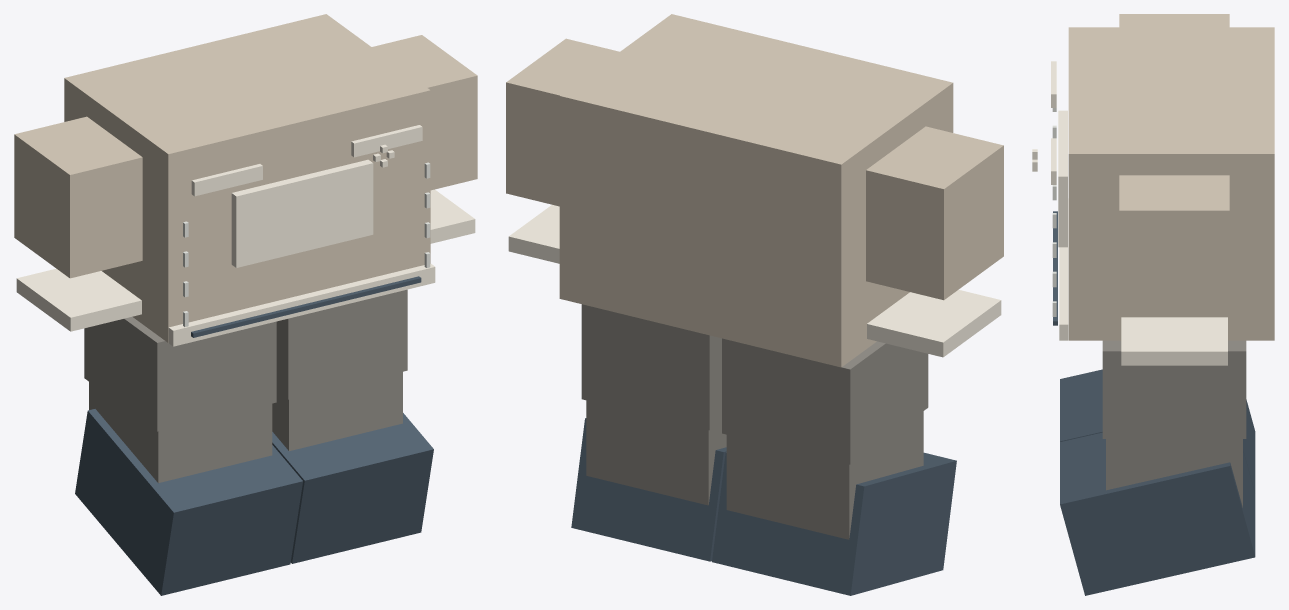
File: casual-sand.glb
The picture shows the model from 3 angles, left to right: view 1: azimuth 30°, elevation 25°; view 2: azimuth 150°, elevation 25°; view 3: azimuth 270°, elevation 25°; orthographic projection. The views are drawn at different scales.
Visible parts, largest first — view 1: jacket, shoe-Right, upper-sleeve-Right, trouser-Right, shoe-Left, tee-panel, trouser-Left, lower-trouser-Right, upper-sleeve-Left, lower-trouser-Left, cuff-Right, tee-hem (+4 smaller); view 2: jacket, upper-sleeve-Right, trouser-Right, shoe-Right, trouser-Left, lower-trouser-Right, lower-trouser-Left, upper-sleeve-Left, shoe-Left, cuff-Right, cuff-Left; view 3: jacket, shoe-Left, upper-sleeve-Left, trouser-Left, lower-trouser-Left, cuff-Left, shoe-Right, upper-sleeve-Right, tee-panel, tee-hem, design-casual-double-hem.
Part boxes in pixels (<box>): jacket: <box>64,14,430,342</box>; shoe-Right: <box>75,409,302,595</box>; upper-sleeve-Right: <box>14,116,142,278</box>; trouser-Right: <box>84,317,276,431</box>; shoe-Left: <box>272,413,433,563</box>; tee-panel: <box>231,159,373,267</box>; trouser-Left: <box>276,289,407,399</box>; lower-trouser-Right: <box>89,382,272,482</box>; upper-sleeve-Left: <box>372,35,477,190</box>; lower-trouser-Left: <box>272,372,402,451</box>; cuff-Right: <box>16,268,141,331</box>; tee-hem: <box>168,263,435,346</box>; jacket: <box>559,14,953,367</box>; upper-sleeve-Right: <box>866,126,1003,300</box>; trouser-Right: <box>722,338,928,464</box>; shoe-Right: <box>712,452,956,595</box>; trouser-Left: <box>581,304,721,430</box>; lower-trouser-Right: <box>726,411,923,539</box>; lower-trouser-Left: <box>586,400,726,505</box>; upper-sleeve-Left: <box>506,38,619,206</box>; shoe-Left: <box>571,418,726,561</box>; cuff-Right: <box>867,289,1001,357</box>; cuff-Left: <box>508,204,559,263</box>; jacket: <box>1068,27,1274,340</box>; shoe-Left: <box>1060,432,1255,595</box>; upper-sleeve-Left: <box>1119,175,1229,312</box>; trouser-Left: <box>1102,340,1246,438</box>; lower-trouser-Left: <box>1106,439,1242,507</box>; cuff-Left: <box>1121,317,1227,365</box>; shoe-Right: <box>1060,369,1255,493</box>; upper-sleeve-Right: <box>1119,14,1229,27</box>; tee-panel: <box>1058,110,1067,247</box>; tee-hem: <box>1059,198,1068,340</box>; design-casual-double-hem: <box>1053,211,1057,325</box>.
Size of the model in its own units: 1.07 by 1.13 by 0.559.
